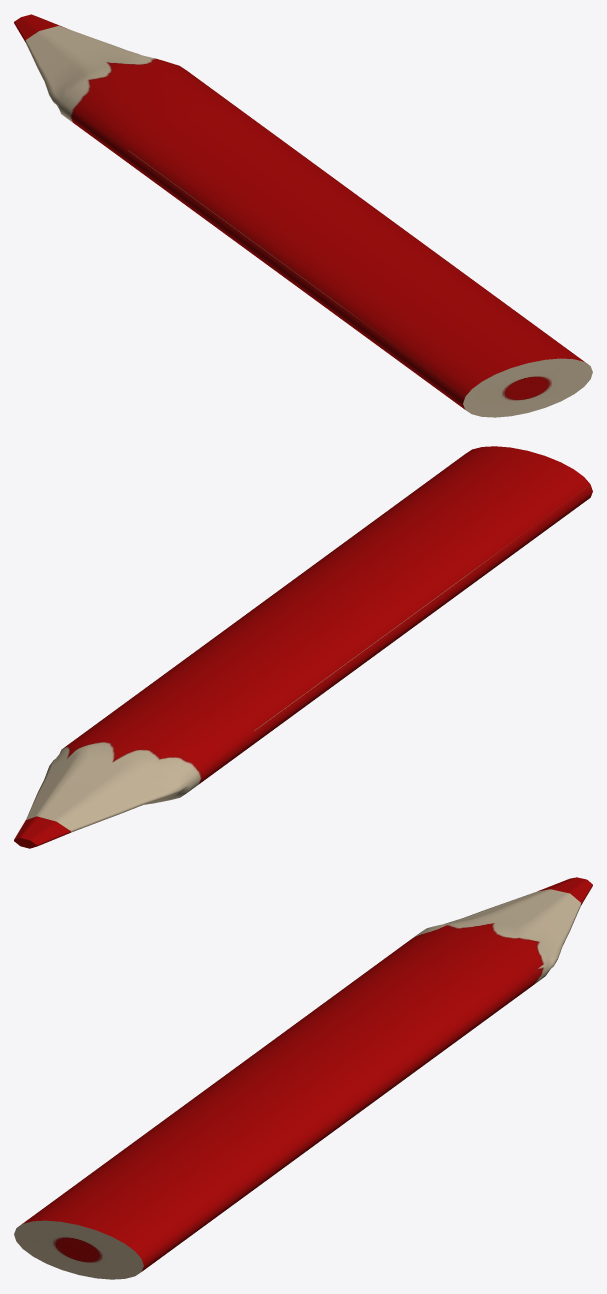
3 views of the same model, one above another, from view 1: azimuth 30°, elevation 25°; view 2: azimuth 150°, elevation 25°; view 3: azimuth 330°, elevation 25° (orthographic).
Parts seen in each view (by area): view 1: Loft001_0; view 2: Loft001_0; view 3: Loft001_0.
Boxes of the visible parts, x1,y1,x2,y2 form: Loft001_0: [14, 14, 592, 417]; Loft001_0: [14, 446, 592, 848]; Loft001_0: [14, 877, 592, 1279].
Size of the model in its own units: 0.0424 by 0.0155 by 0.2839.
1 material, 1 textured.
